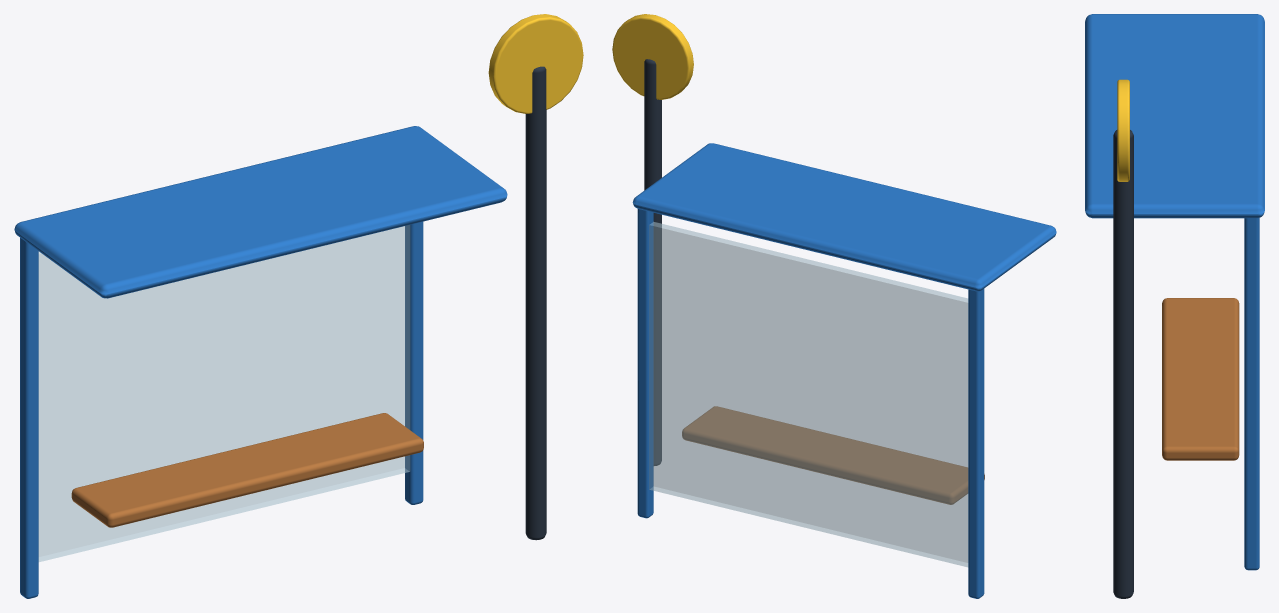
The model's file is bus_stop.glb.
The picture shows the model from 3 angles, left to right: view 1: azimuth 30°, elevation 25°; view 2: azimuth 150°, elevation 25°; view 3: azimuth 270°, elevation 25°; orthographic projection. The views are drawn at different scales.
Parts seen in each view (by area): view 1: bus_stop; view 2: bus_stop; view 3: bus_stop.
Boxes of the visible parts, x1,y1,x2,y2 form: bus_stop: (14, 14, 583, 598); bus_stop: (612, 14, 1056, 598); bus_stop: (1085, 14, 1264, 598).
Size of the model in its own units: 2.2 by 2.2 by 0.7.
